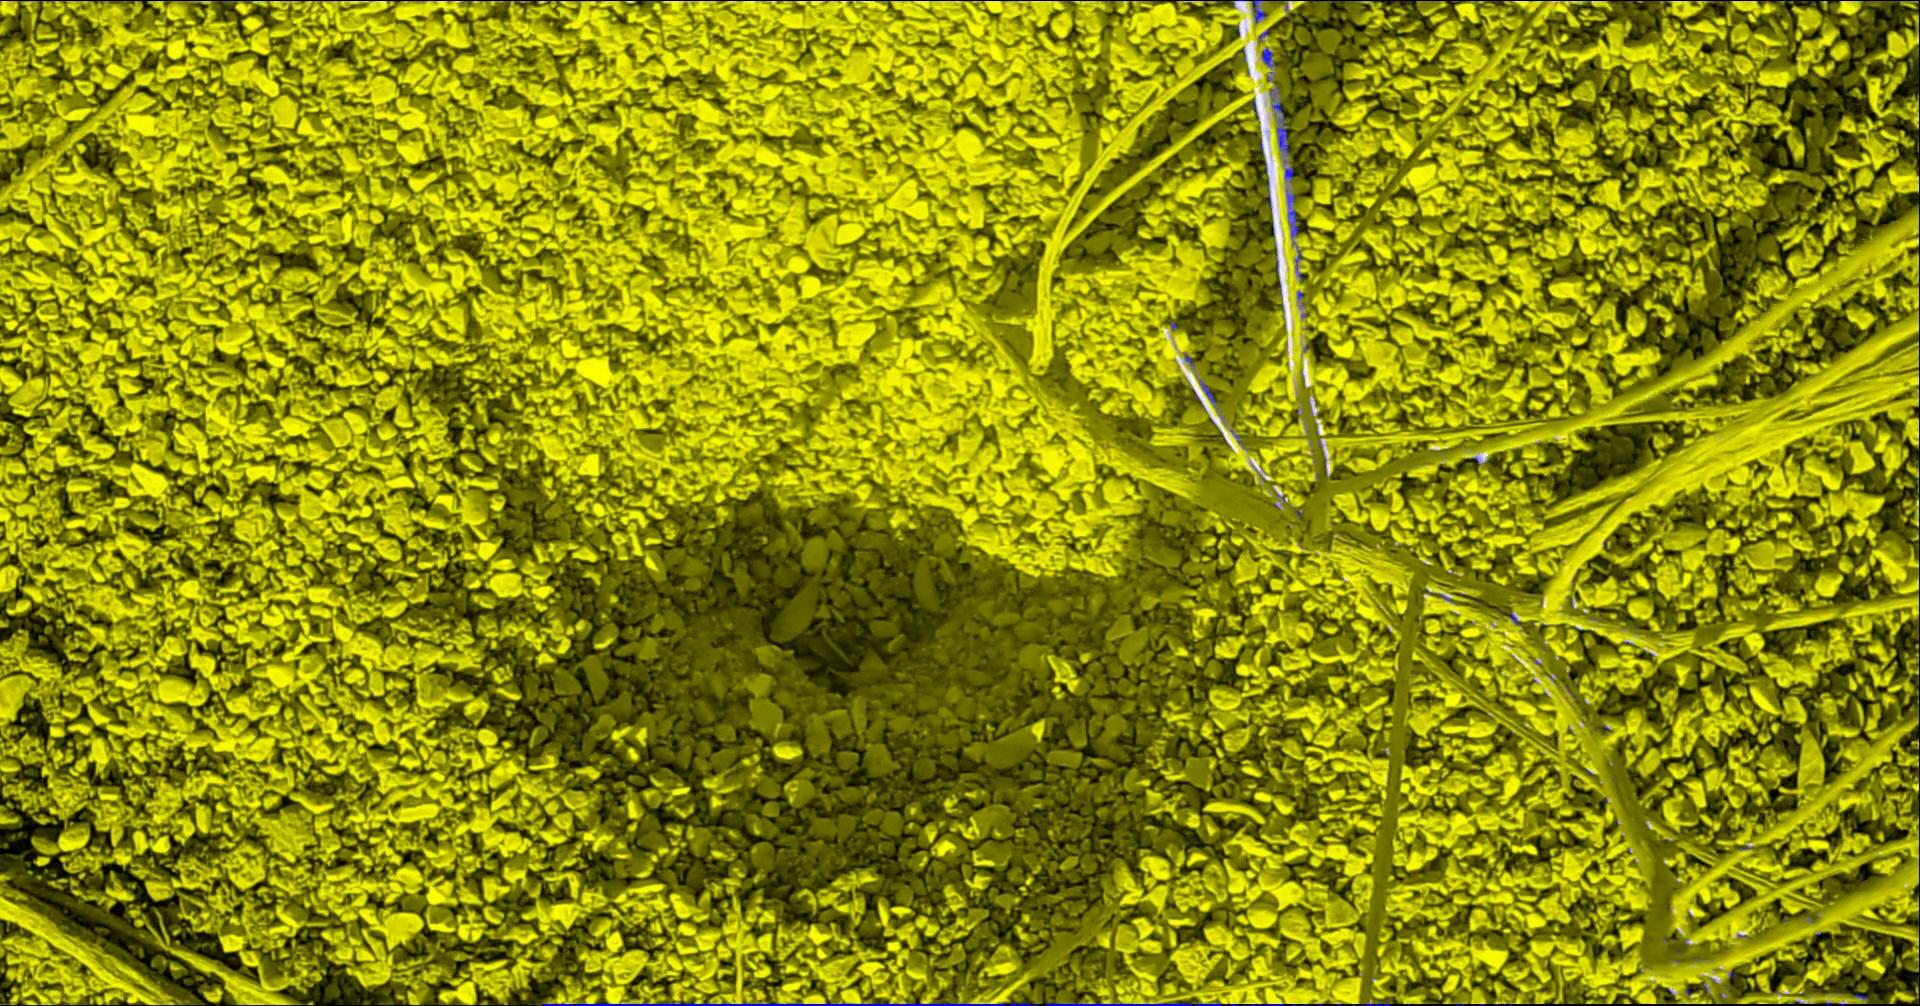ant: (540, 1002, 1037, 1005), (1271, 99, 1288, 152), (1044, 1002, 1284, 1005), (1286, 193, 1298, 236), (1200, 382, 1215, 404), (1251, 0, 1265, 22), (1261, 47, 1275, 66)
